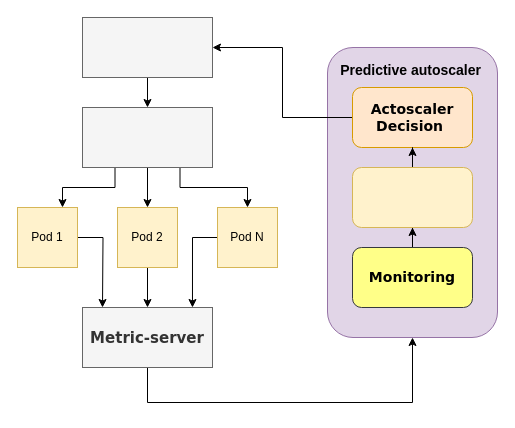
This 515x428 diagram has some shape labels left out. Each missing label, with the centre of its shape:
Deployment: pixel 147 47
Prediction Module: pixel 412 197
Replica Set: pixel 147 137
